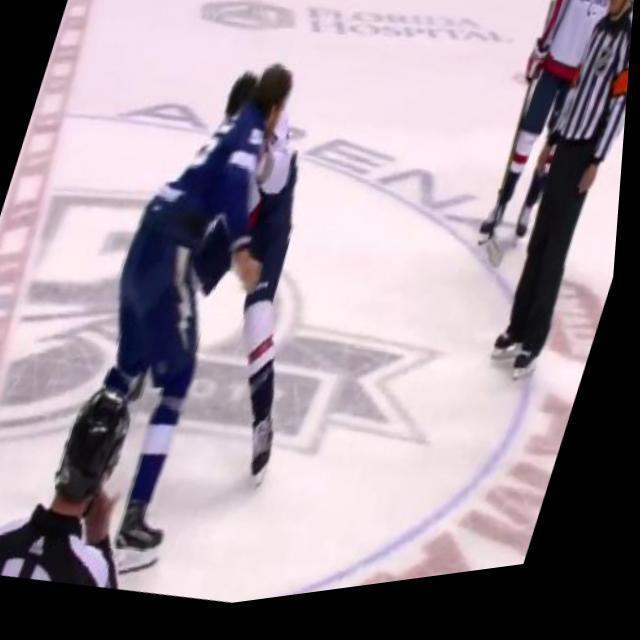fight: (70, 35, 376, 489)
